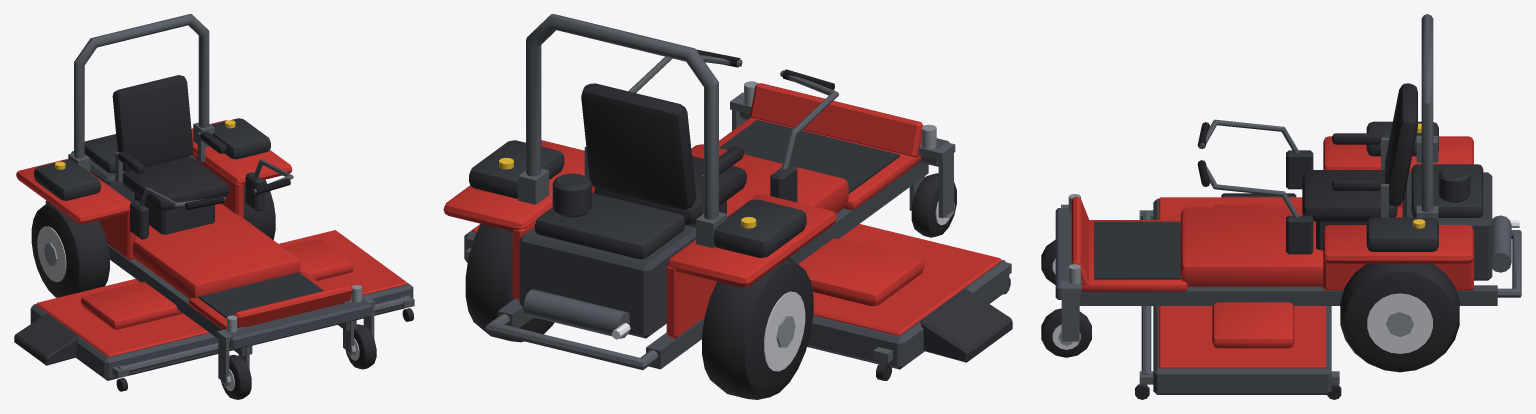
Rendered from mower_zt60.glb.
3 renders of one model, left to right at view 1: azimuth 30°, elevation 25°; view 2: azimuth 150°, elevation 25°; view 3: azimuth 270°, elevation 25°, orthographic. The views are drawn at different scales.
Parts seen in each view (by area): view 1: Chassis, Deck, Wheel_RR, Wheel_CR, Wheel_RL, Wheel_CL; view 2: Chassis, Deck, Wheel_RR, Wheel_RL, Wheel_CR; view 3: Chassis, Deck, Wheel_RL, Wheel_CL, Wheel_CR.
Part boxes in pixels (<box>): Chassis: <box>14,14,374,386</box>; Deck: <box>30,230,414,391</box>; Wheel_RR: <box>31,202,109,297</box>; Wheel_CR: <box>221,354,251,399</box>; Wheel_RL: <box>244,179,275,239</box>; Wheel_CL: <box>345,324,376,369</box>; Chassis: <box>443,14,1012,370</box>; Deck: <box>464,224,1011,380</box>; Wheel_RR: <box>702,257,813,399</box>; Wheel_RL: <box>465,224,554,342</box>; Wheel_CR: <box>911,173,956,237</box>; Chassis: <box>1055,14,1521,345</box>; Deck: <box>1135,197,1341,399</box>; Wheel_RL: <box>1340,263,1459,372</box>; Wheel_CL: <box>1041,308,1091,357</box>; Wheel_CR: <box>1041,239,1055,284</box>.
Bounding box in the file's own units: 3.3 × 2.25 × 3.51.
